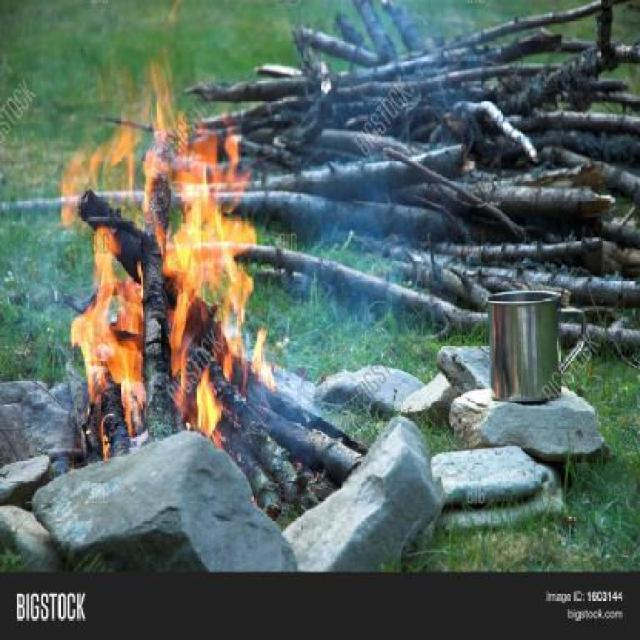Fire: (59, 69, 268, 437)
